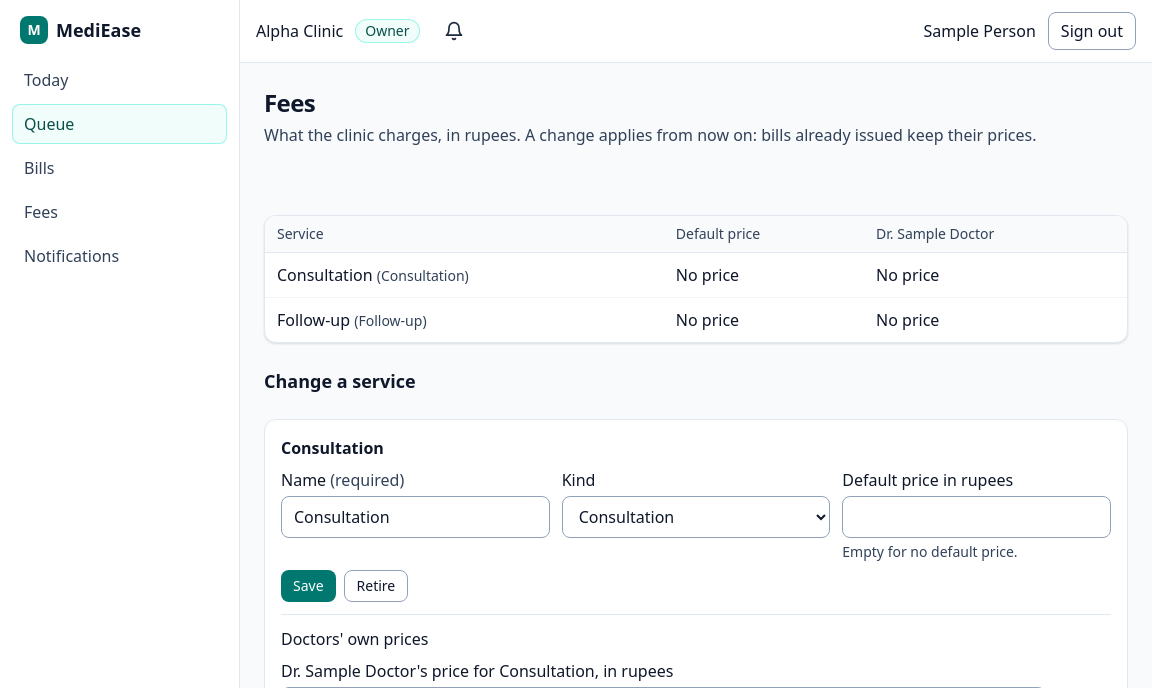
the fee schedule (M6d-P1, FR-BIL-01, billing R1-R4) › AC1: the owner prices the consultation in rupees and the API gets paise
Step 1. Type "500.5" into the field labelled "Default price in rupees" → (977, 517), box [842, 496, 1111, 538]
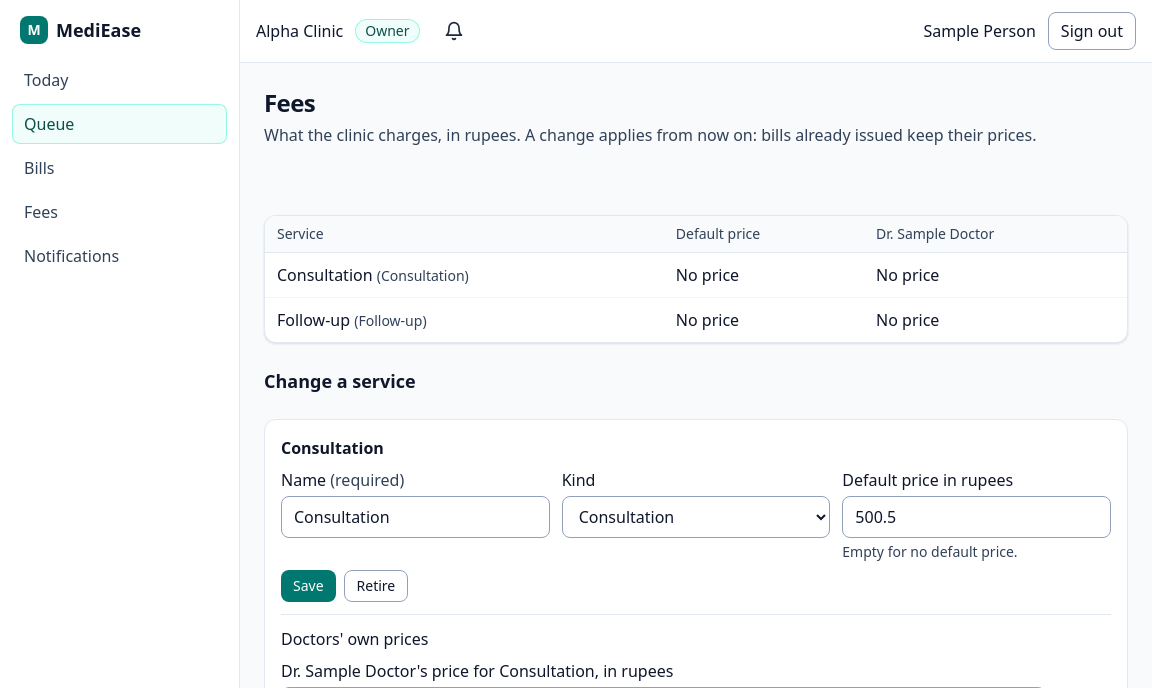
Step 2. Click the button named "Save Consultation" → click(308, 586), box [281, 570, 336, 602]
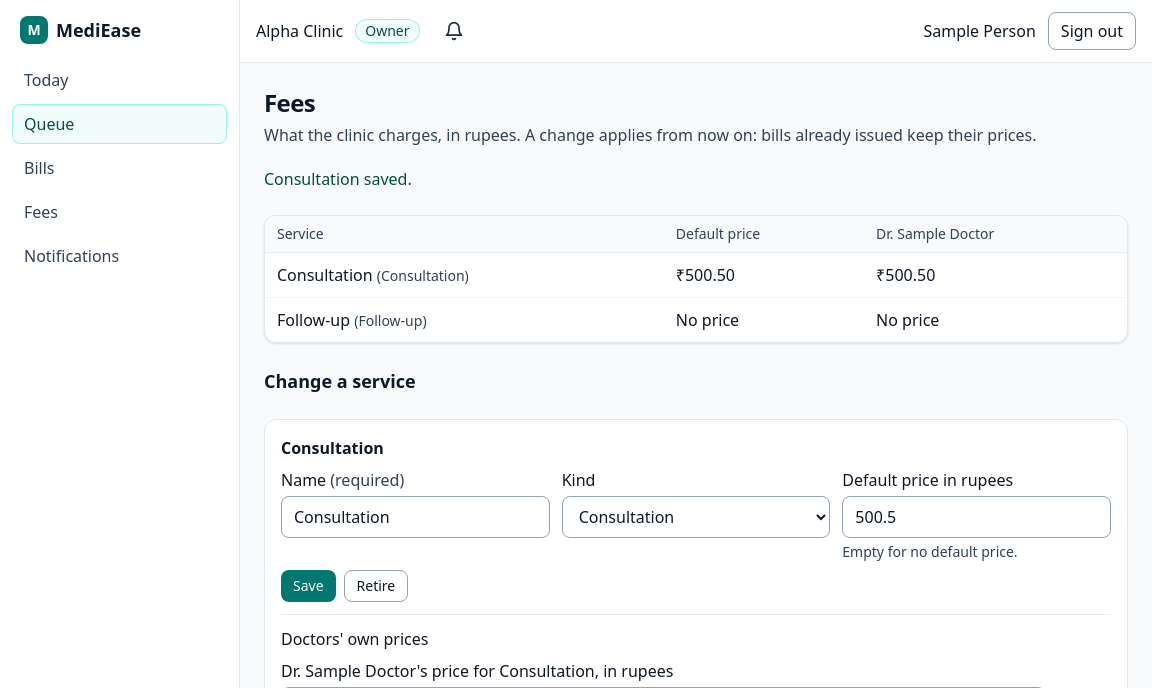
Expected: the text "₹500.50" is shown 2 times, [664, 253, 864, 298]; [864, 253, 1127, 298]
Expected: the text "Consultation saved." is shown, [264, 168, 412, 190]
